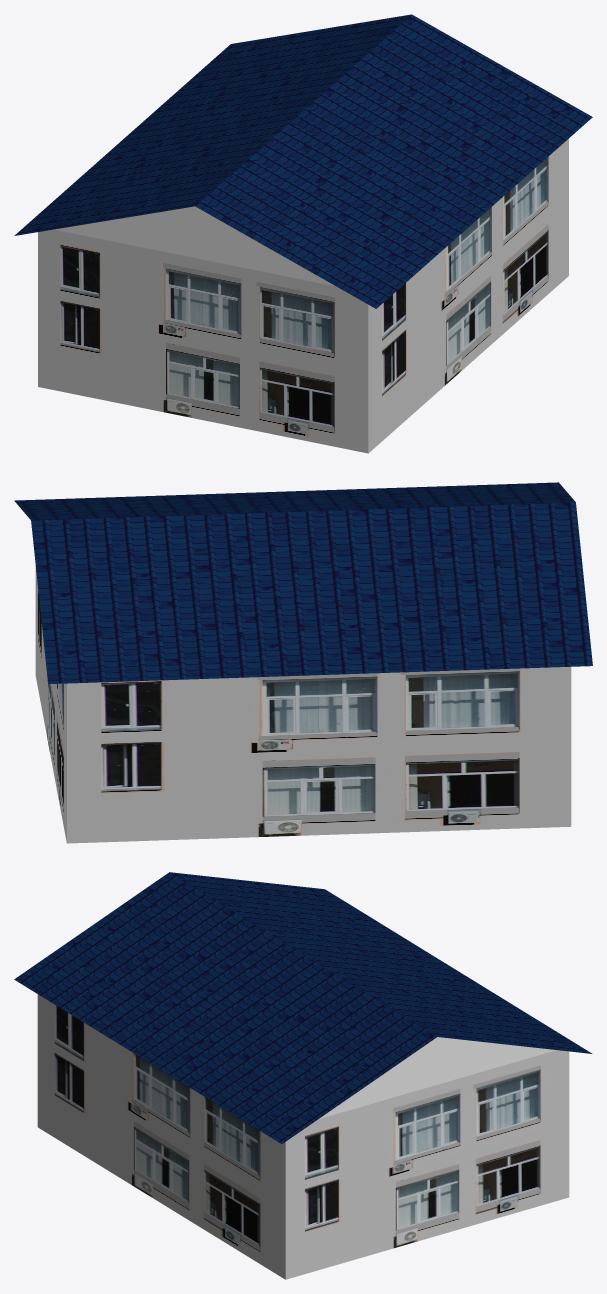
The picture shows the model from 3 angles, top to bottom: view 1: azimuth 30°, elevation 25°; view 2: azimuth 150°, elevation 25°; view 3: azimuth 270°, elevation 25°; orthographic projection. The views are drawn at different scales.
Parts seen in each view (by area): view 1: CityEngineMaterial_6_m, CityEngineMaterial_9_m, CityEngineMaterial_3_m; view 2: CityEngineMaterial_6_m, CityEngineMaterial_9_m; view 3: CityEngineMaterial_9_m, CityEngineMaterial_6_m, CityEngineMaterial_3_m.
Part boxes in pixels (box(x1,y1,x2,y2)): CityEngineMaterial_6_m: box(14, 14, 592, 308); CityEngineMaterial_9_m: box(38, 139, 568, 453); CityEngineMaterial_3_m: box(54, 206, 335, 286); CityEngineMaterial_6_m: box(14, 482, 592, 683); CityEngineMaterial_9_m: box(35, 566, 571, 843); CityEngineMaterial_9_m: box(37, 994, 569, 1279); CityEngineMaterial_6_m: box(14, 872, 592, 1143); CityEngineMaterial_3_m: box(318, 1037, 556, 1119).
Bounding box in the file's own units: 34.35 × 13.04 × 32.95.
